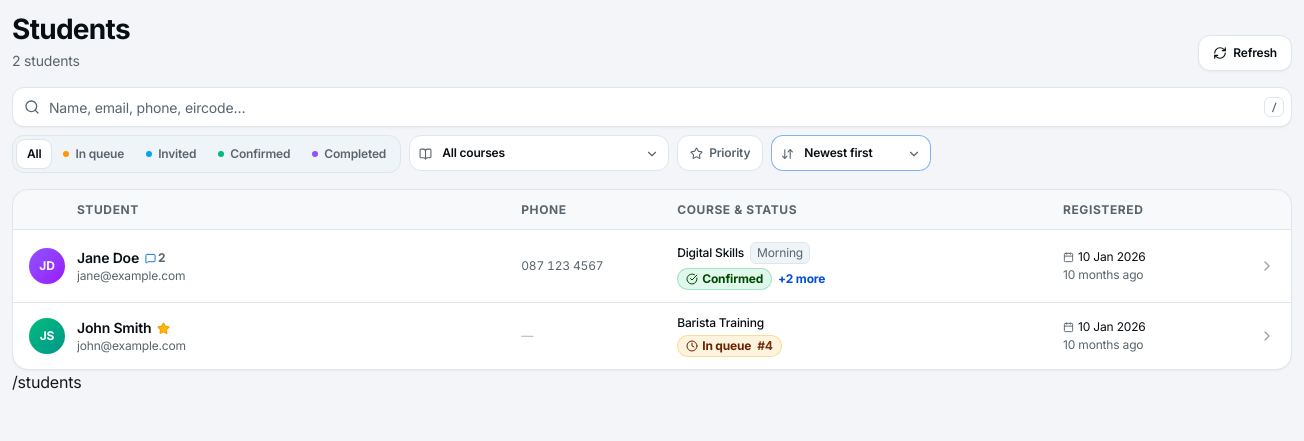
Test case: ViewerStudentsDirectory › keeps filters in the URL and passes them to the RPC
Click the tab "In queue" at (94, 154), box [54,140,134,168]
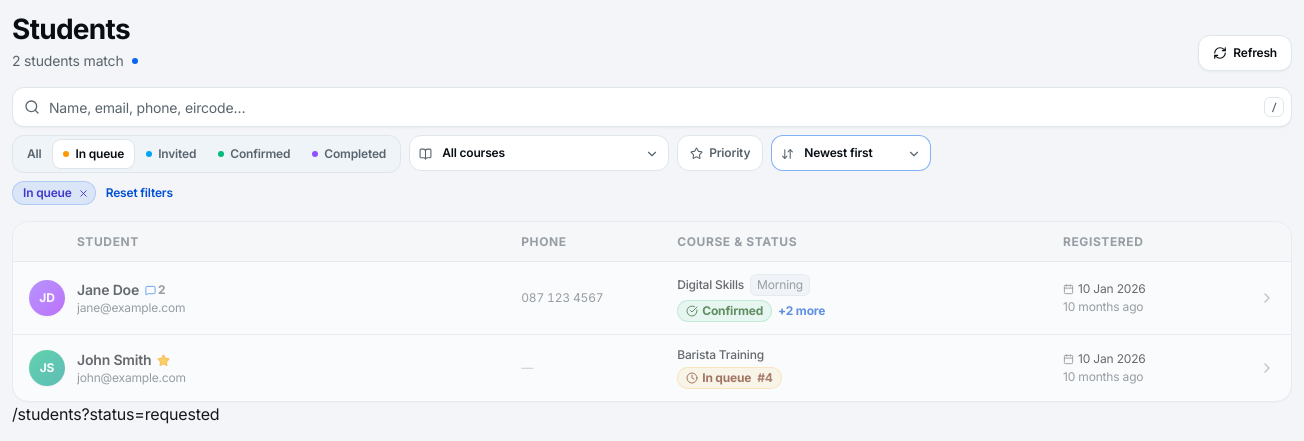
Select "Barista Training" in the dropdown named "Course filter" at (539, 153), box [409,135,669,171]
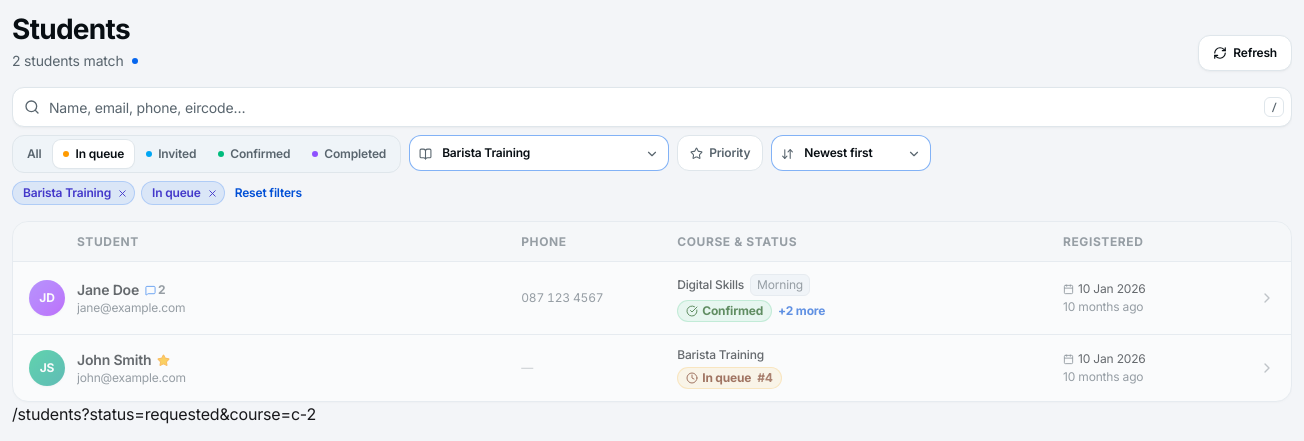
Click the button "Priority" at (720, 153), box [677,135,763,171]
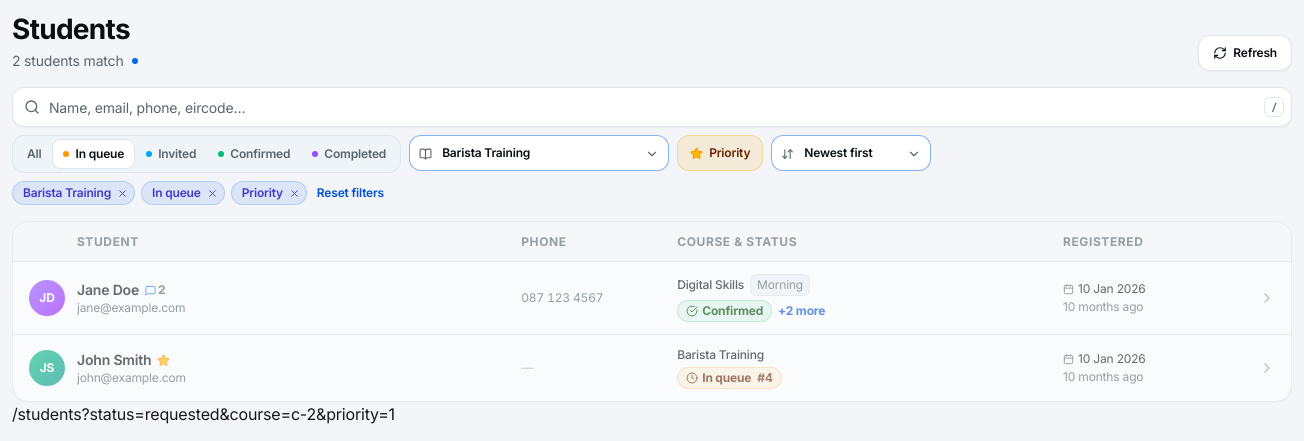
Select "Name A–Z" in the dropdown named "Sort by" at (851, 153), box [771,135,931,171]
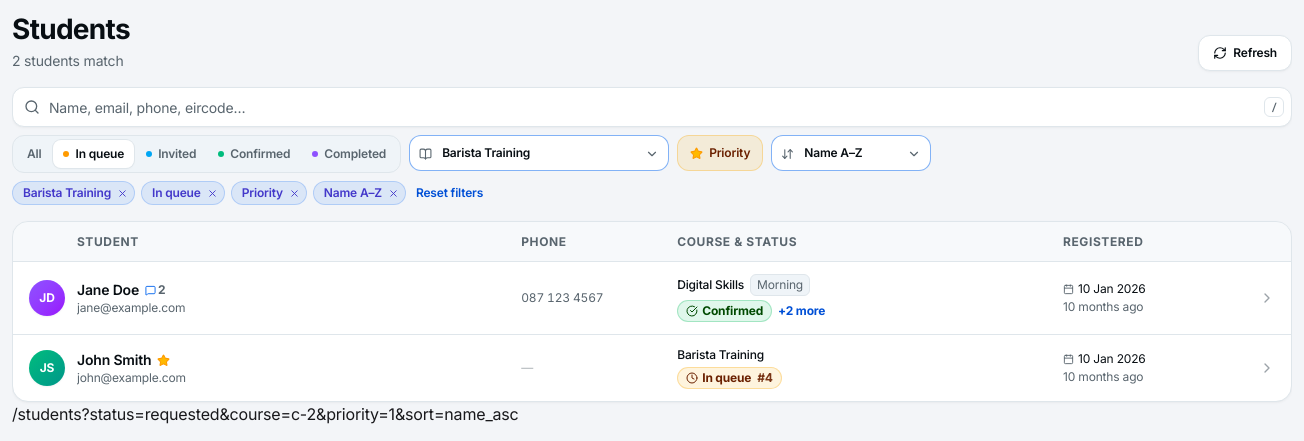
Expected: the text with test id "location" reads "/students?status=requested&course=c-2&priority=1&sort=name_asc", [12,404,519,424]
